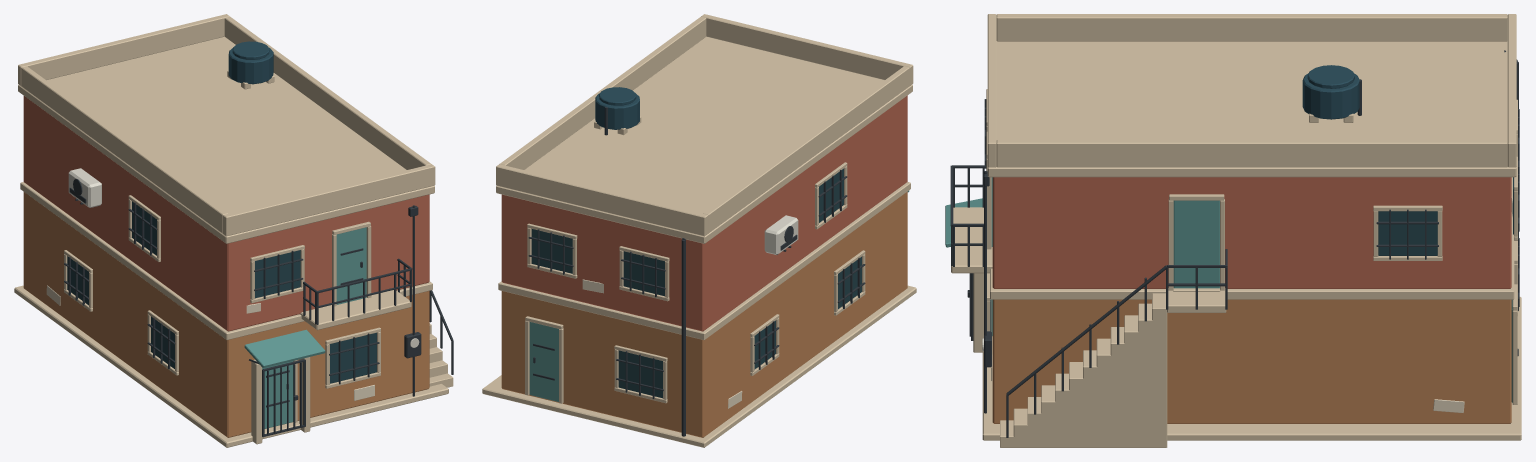
The model's file is yun_caribbean_house_01.glb.
3 views of the same model, side by side, from view 1: azimuth 30°, elevation 25°; view 2: azimuth 150°, elevation 25°; view 3: azimuth 270°, elevation 25° (orthographic). The views are drawn at different scales.
Visible parts, largest first — view 1: BATCH_Concrete_Sand, BATCH_Wall_Faded_Mango, BATCH_Wall_Sunwashed_Coral, BATCH_Metal_Dark, BATCH_Accent_Seafoam, BATCH_Window_Dark, BATCH_Tank_DeepBlue, BATCH_AC_OffWhite, BATCH_Plaster_Patch; view 2: BATCH_Concrete_Sand, BATCH_Wall_Faded_Mango, BATCH_Wall_Sunwashed_Coral, BATCH_Window_Dark, BATCH_Metal_Dark, BATCH_Accent_Seafoam, BATCH_Tank_DeepBlue, BATCH_AC_OffWhite; view 3: BATCH_Concrete_Sand, BATCH_Wall_Faded_Mango, BATCH_Wall_Sunwashed_Coral, BATCH_Metal_Dark, BATCH_Accent_Seafoam, BATCH_Tank_DeepBlue, BATCH_Window_Dark.
Part boxes in pixels (box(x1,y1,x2,y2)): BATCH_Concrete_Sand: box(14, 14, 453, 447); BATCH_Wall_Faded_Mango: box(23, 192, 429, 437); BATCH_Wall_Sunwashed_Coral: box(23, 96, 429, 331); BATCH_Metal_Dark: box(64, 178, 453, 437); BATCH_Accent_Seafoam: box(244, 227, 366, 428); BATCH_Window_Dark: box(67, 201, 376, 383); BATCH_Tank_DeepBlue: box(228, 41, 273, 84); BATCH_AC_OffWhite: box(68, 168, 419, 347); BATCH_Plaster_Patch: box(46, 285, 374, 400); BATCH_Concrete_Sand: box(482, 14, 916, 447); BATCH_Wall_Faded_Mango: box(501, 191, 907, 437); BATCH_Wall_Sunwashed_Coral: box(501, 95, 907, 331); BATCH_Window_Dark: box(531, 168, 861, 398); BATCH_Metal_Dark: box(528, 107, 865, 436); BATCH_Accent_Seafoam: box(529, 190, 909, 401); BATCH_Tank_DeepBlue: box(595, 87, 639, 129); BATCH_AC_OffWhite: box(764, 215, 798, 254); BATCH_Concrete_Sand: box(951, 14, 1521, 447); BATCH_Wall_Faded_Mango: box(992, 299, 1511, 423); BATCH_Wall_Sunwashed_Coral: box(992, 177, 1511, 288); BATCH_Metal_Dark: box(950, 50, 1519, 437); BATCH_Accent_Seafoam: box(945, 177, 1512, 402); BATCH_Tank_DeepBlue: box(1302, 65, 1359, 119); BATCH_Window_Dark: box(990, 177, 1513, 331).
Size of the model in its own units: 7.33 by 7.34 by 11.66.
